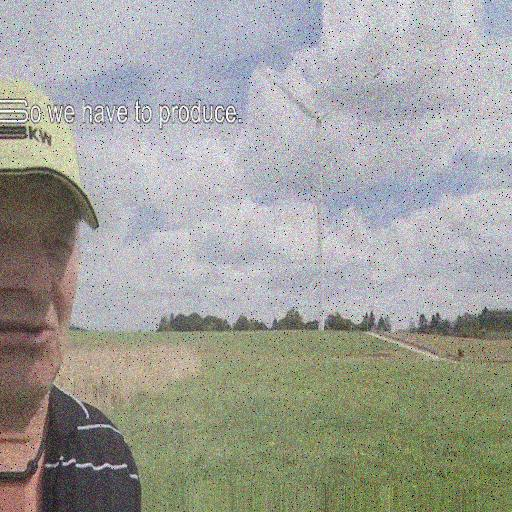wind turbine: (269, 68, 384, 325)
